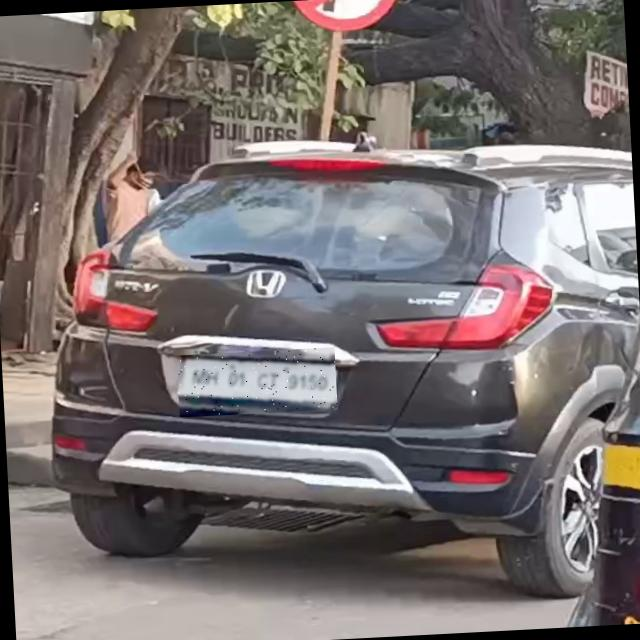Plate: (178, 349, 339, 419)
